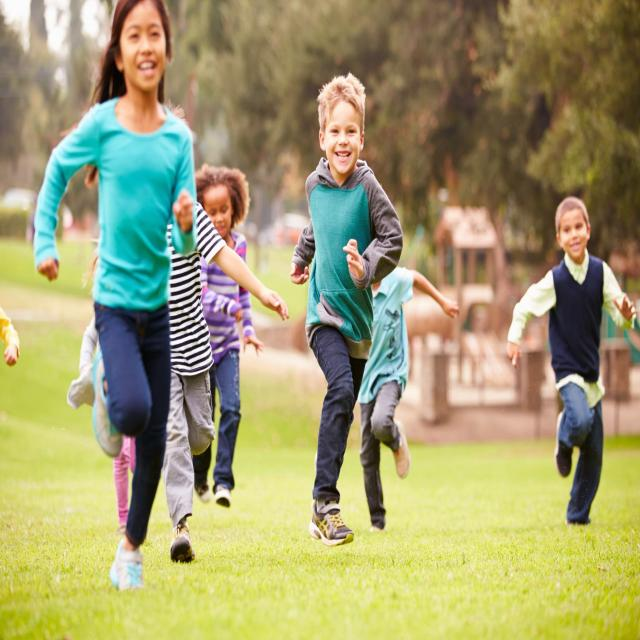child: (32, 0, 199, 595), (290, 73, 402, 554), (503, 193, 640, 532), (185, 170, 262, 510)
